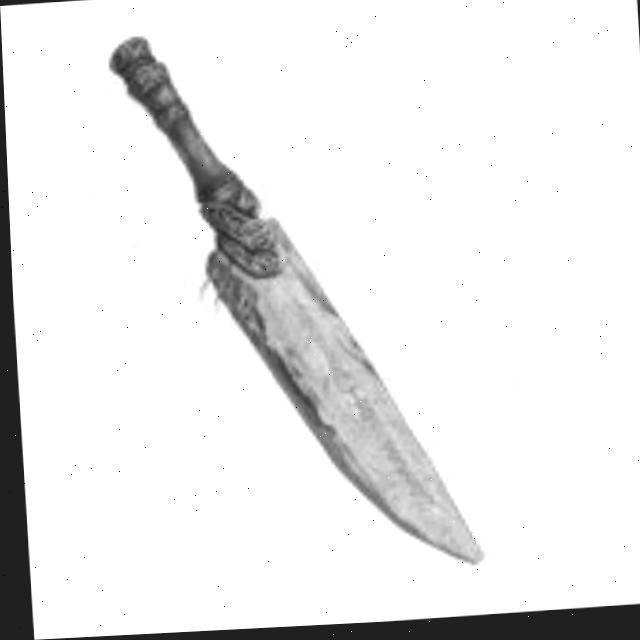knife: (106, 15, 482, 589)
